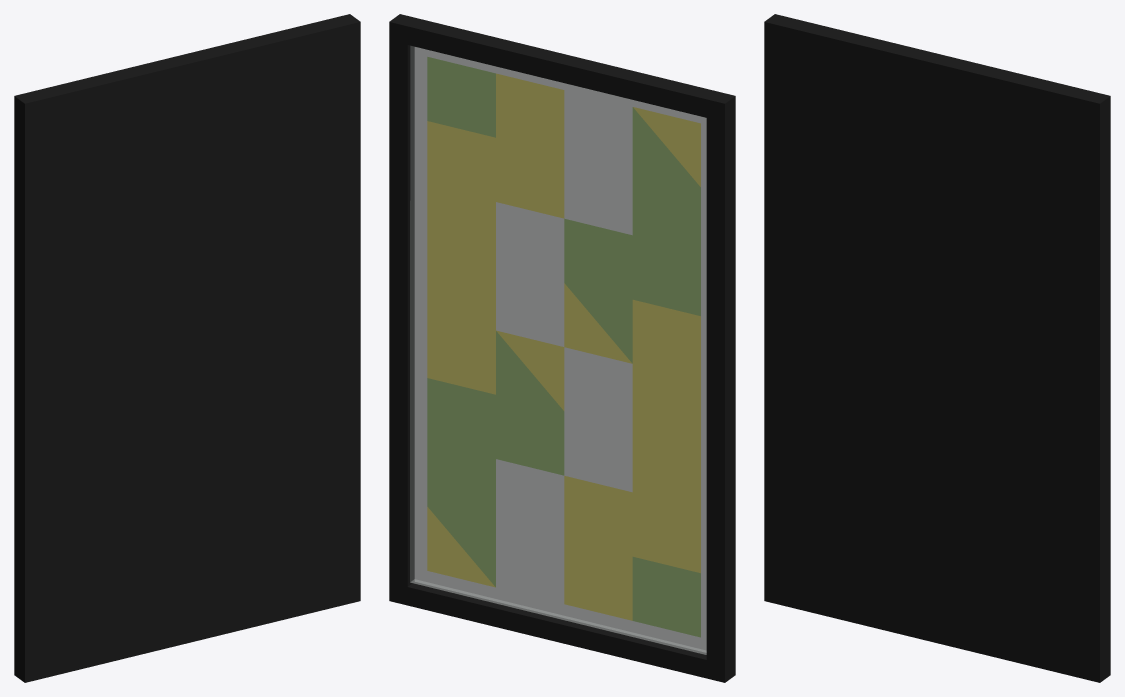
Rendered from WallArt02.glb.
The picture shows the model from 3 angles, left to right: view 1: azimuth 30°, elevation 25°; view 2: azimuth 150°, elevation 25°; view 3: azimuth 330°, elevation 25°; orthographic projection.
Visible parts, largest first — view 1: Node; view 2: Node; view 3: Node.
Boxes of the visible parts, left/top/right/bottom form: Node: left=14, top=14, right=360, bottom=682; Node: left=389, top=14, right=735, bottom=682; Node: left=764, top=14, right=1110, bottom=682.
Size of the model in its own units: 0.54 by 0.89 by 0.03.
Materials: 2 (2 with a texture image).
